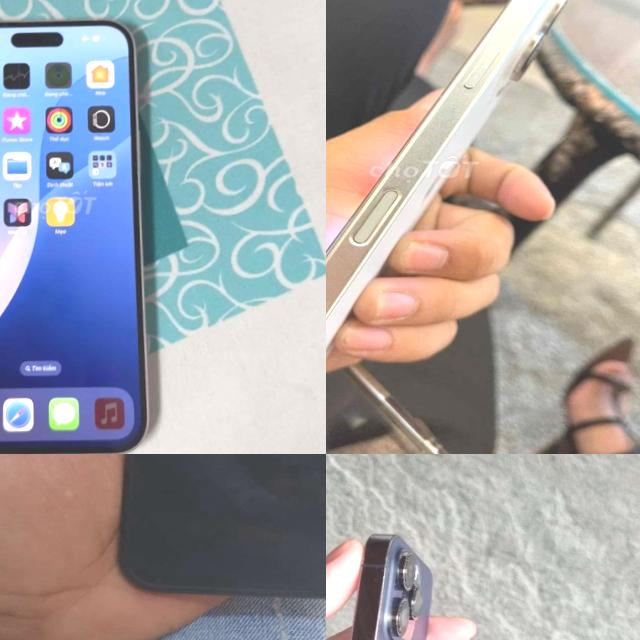gen_11: (97, 454, 326, 618)
gen_14: (326, 519, 438, 640)
gen_15: (326, 0, 594, 436), (0, 6, 169, 454)
